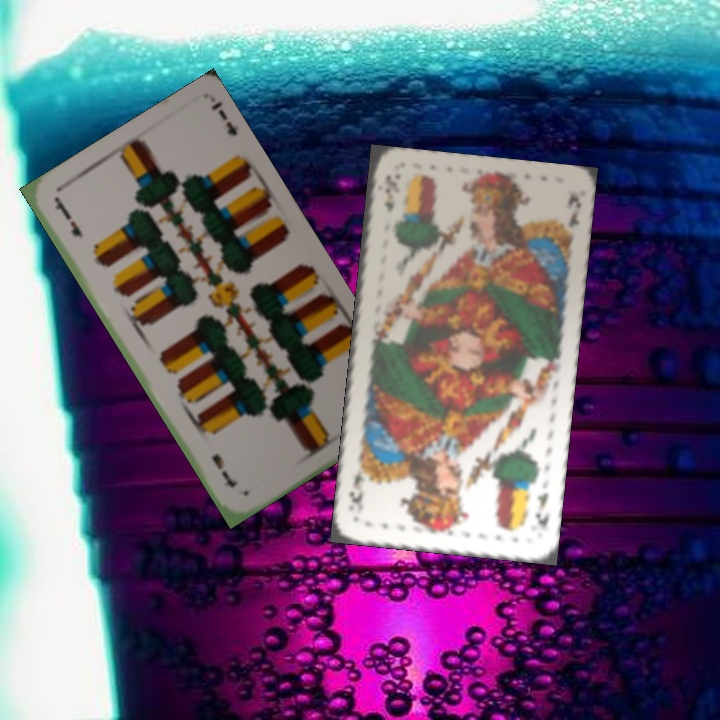E7: (51, 194, 86, 241)
EK: (531, 488, 552, 532), (380, 171, 397, 215)
